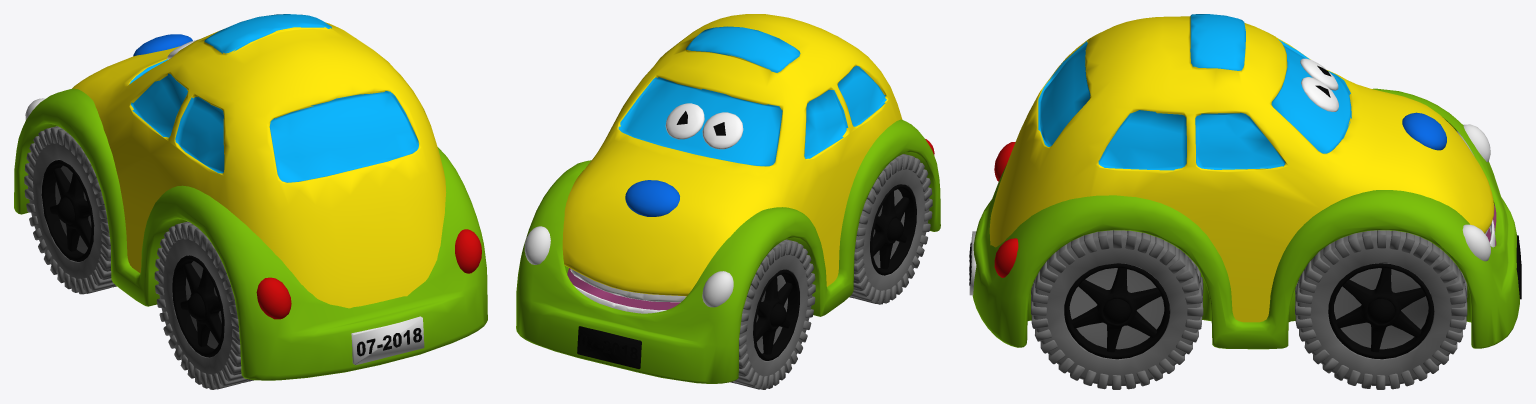
File: toy_car2.fbx
3 views of the same model, side by side, from view 1: azimuth 30°, elevation 25°; view 2: azimuth 150°, elevation 25°; view 3: azimuth 270°, elevation 25° (orthographic). The views are drawn at different scales.
Parts seen in each view (by area): view 1: toy_car2; view 2: toy_car2; view 3: toy_car2.
Boxes of the visible parts, x1,y1,x2,y2 form: toy_car2: (14, 14, 487, 389); toy_car2: (516, 14, 940, 389); toy_car2: (969, 14, 1521, 389).
Size of the model in its own units: 26.34 by 29.25 by 48.35.
